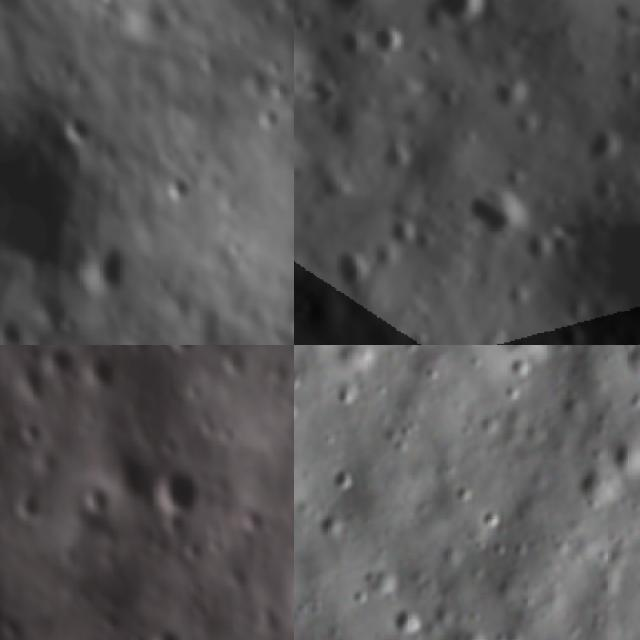crater: (0, 115, 101, 278), (572, 200, 640, 342), (461, 170, 535, 247), (323, 229, 388, 297), (294, 0, 416, 32), (483, 62, 541, 120), (577, 113, 633, 170), (509, 218, 564, 274), (422, 0, 502, 38), (370, 129, 423, 182), (294, 16, 320, 122), (573, 463, 622, 518), (362, 13, 412, 64), (98, 242, 138, 297), (157, 467, 201, 513), (163, 168, 204, 214), (543, 311, 595, 345), (76, 477, 114, 517), (609, 428, 640, 477), (65, 111, 102, 150), (9, 486, 46, 524), (390, 602, 427, 640), (80, 352, 115, 392), (222, 345, 256, 380), (149, 623, 188, 640), (158, 345, 203, 353), (99, 0, 128, 11), (124, 630, 150, 640)
